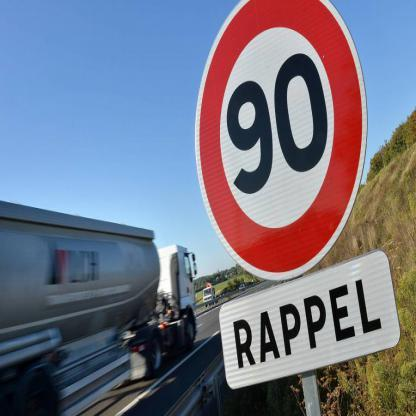Speed Limit 90: (200, 0, 364, 268)
